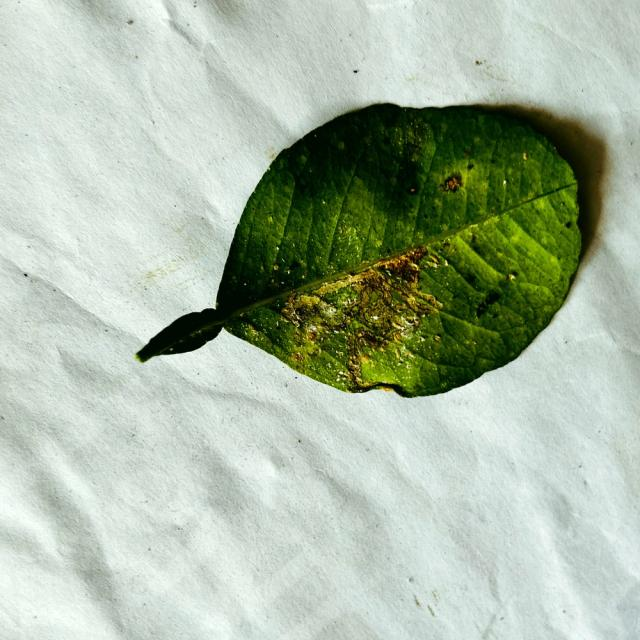Bacterial_Blight: (431, 302, 547, 376), (386, 116, 440, 263), (485, 126, 557, 226), (234, 173, 292, 280), (505, 192, 576, 275), (459, 128, 499, 234), (439, 234, 506, 293), (425, 259, 487, 316), (486, 278, 556, 327), (422, 171, 475, 235), (297, 188, 335, 270), (289, 145, 340, 205), (425, 326, 481, 367), (328, 217, 366, 274), (240, 304, 293, 342), (433, 173, 481, 205), (401, 359, 444, 393), (322, 285, 362, 317), (384, 289, 413, 314)
Lemon: (136, 102, 589, 401)
